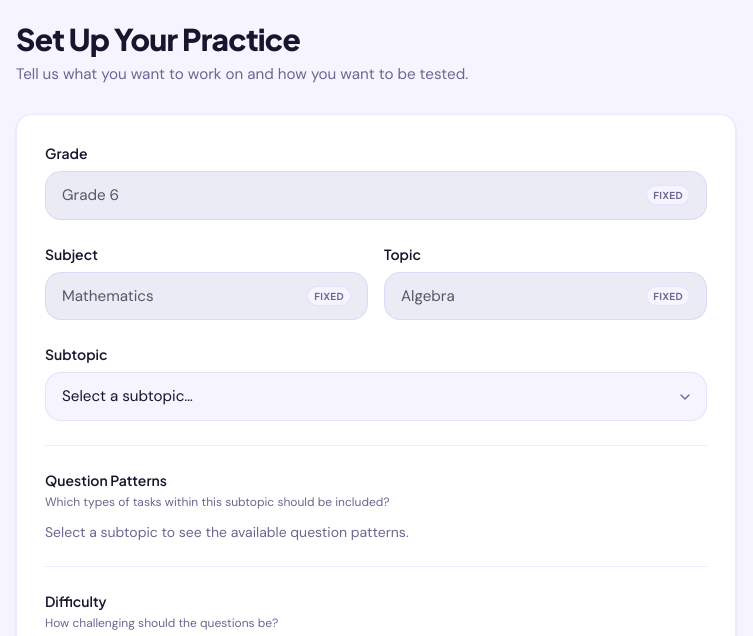
Test case: Setup form › disables Generate Questions until all required fields, including a pattern, are filled
Select "Simplify & Calculate" in the dropdown named "subtopic" at (376, 397), box [45,372,707,421]
(page scrolled)
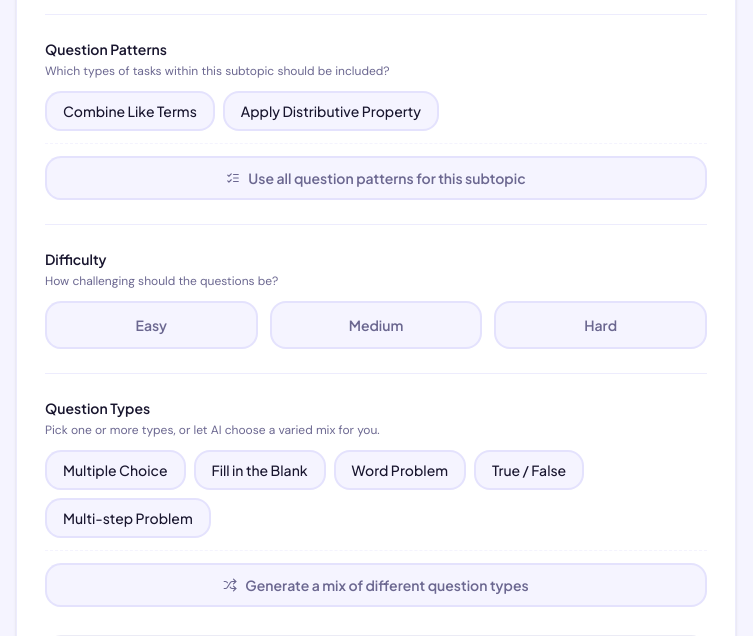
Click the button "Easy" at (151, 325), box [45,301,258,349]
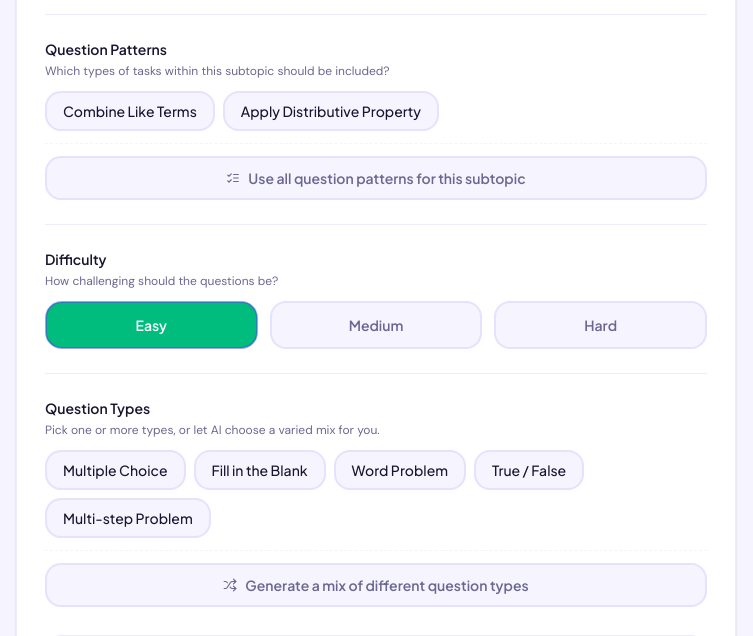
Click the button "Multiple Choice" at (115, 470), box [45,450,186,490]
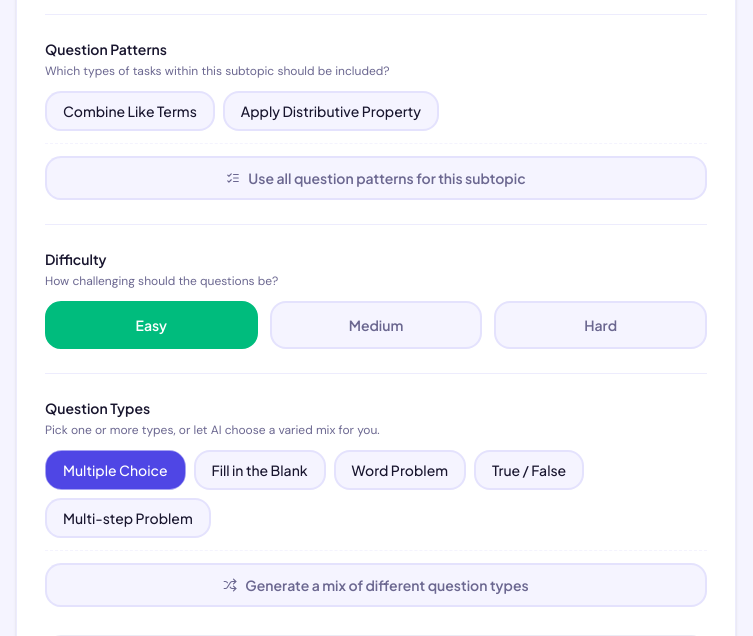
Click the button "Combine Like Terms" at (130, 111), box [45,91,215,131]
(page scrolled)
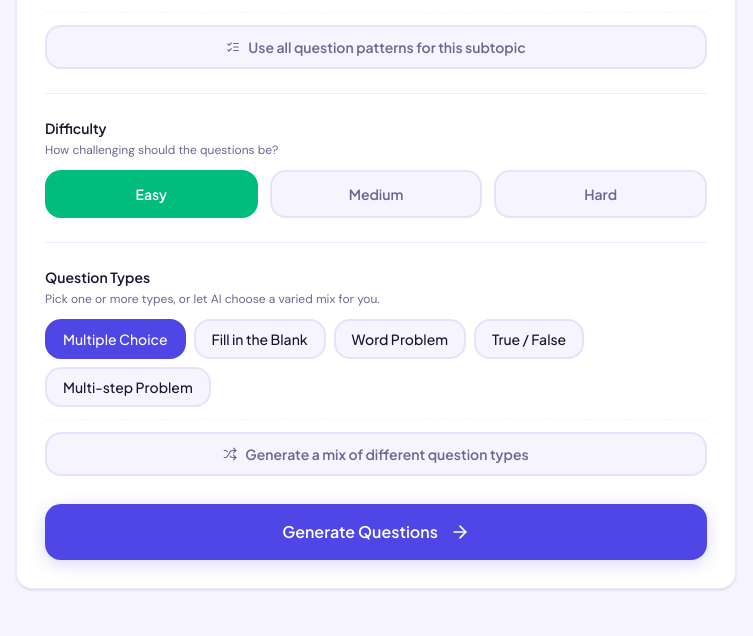
Result: the button "Generate Questions" is enabled at [45,504,707,560]
